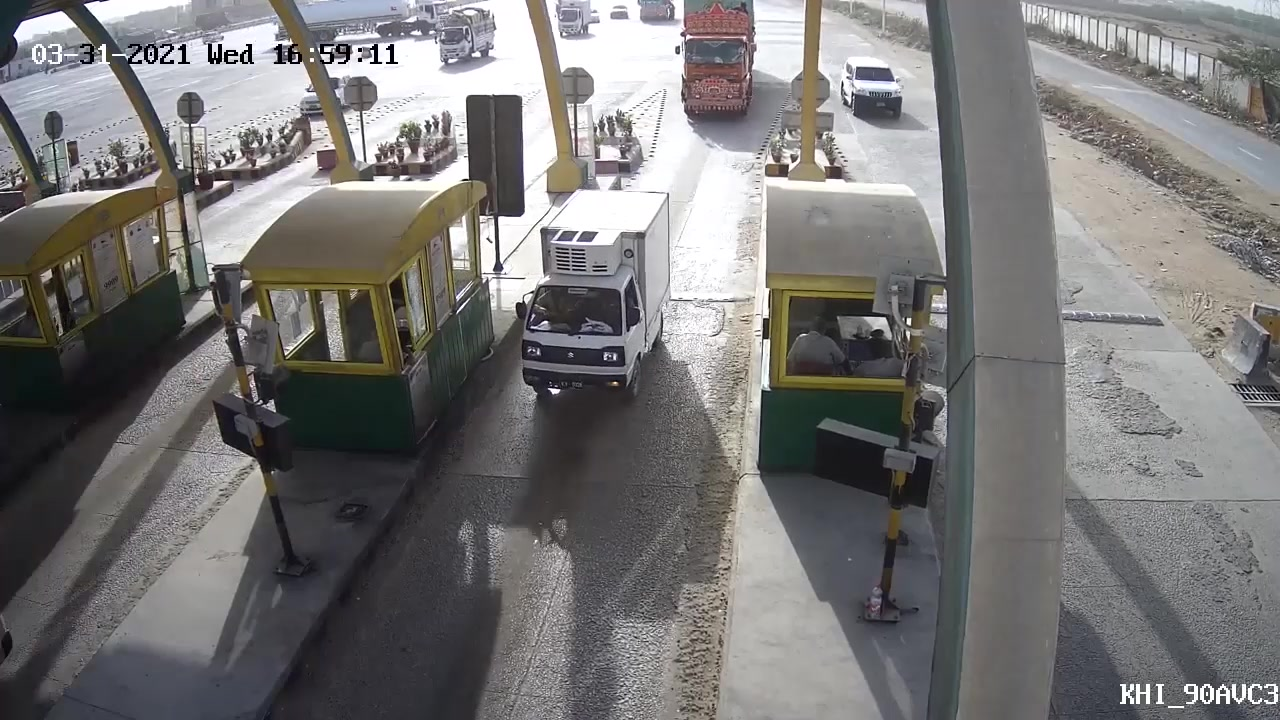F1: (520, 185, 686, 417)
F5: (670, 3, 763, 121)
